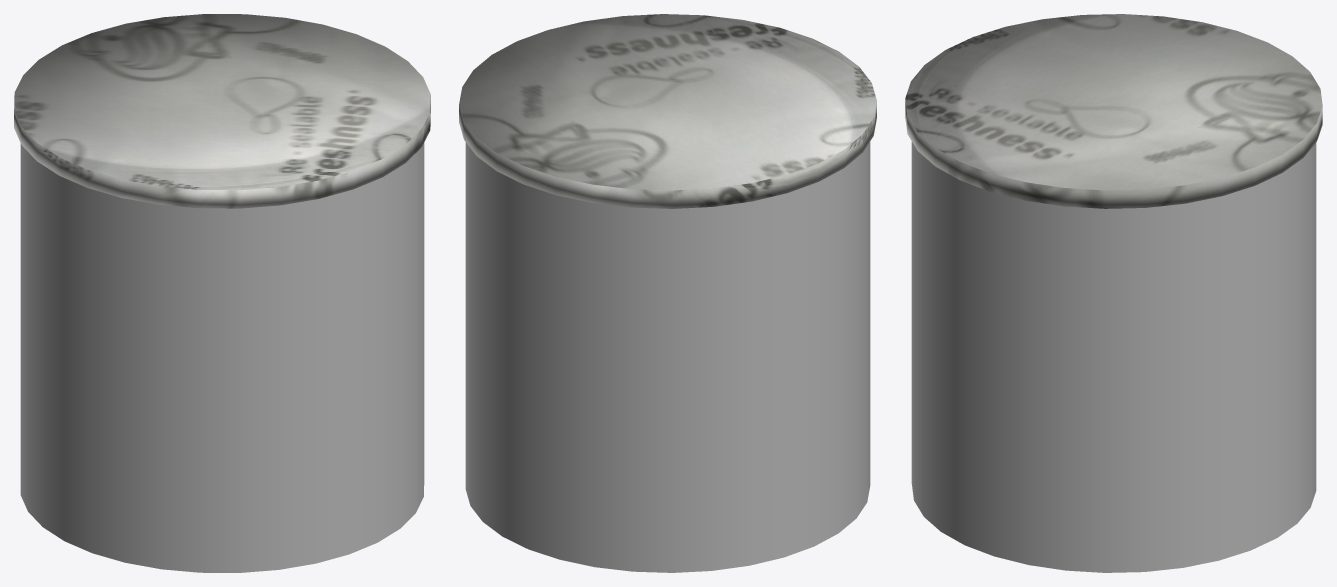
File: PringlesDosefinal.dae
The picture shows the model from 3 angles, left to right: view 1: azimuth 30°, elevation 25°; view 2: azimuth 150°, elevation 25°; view 3: azimuth 270°, elevation 25°; orthographic projection.
Parts seen in each view (by area): view 1: Cylinder_001, Cylinder; view 2: Cylinder_001, Cylinder; view 3: Cylinder_001, Cylinder.
Boxes of the visible parts, x1=… form: Cylinder_001: x1=20, y1=143, x2=424, y2=572; Cylinder: x1=14, y1=14, x2=430, y2=208; Cylinder_001: x1=465, y1=141, x2=870, y2=572; Cylinder: x1=459, y1=14, x2=876, y2=208; Cylinder_001: x1=911, y1=141, x2=1316, y2=572; Cylinder: x1=905, y1=14, x2=1322, y2=208.
Size of the model in its own units: 4.63 by 4.63 by 4.71.
